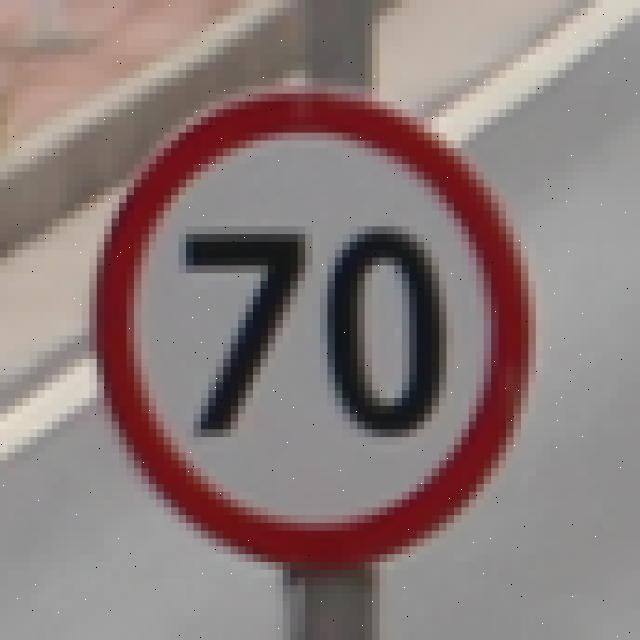speed limit 70: (92, 88, 537, 568)
